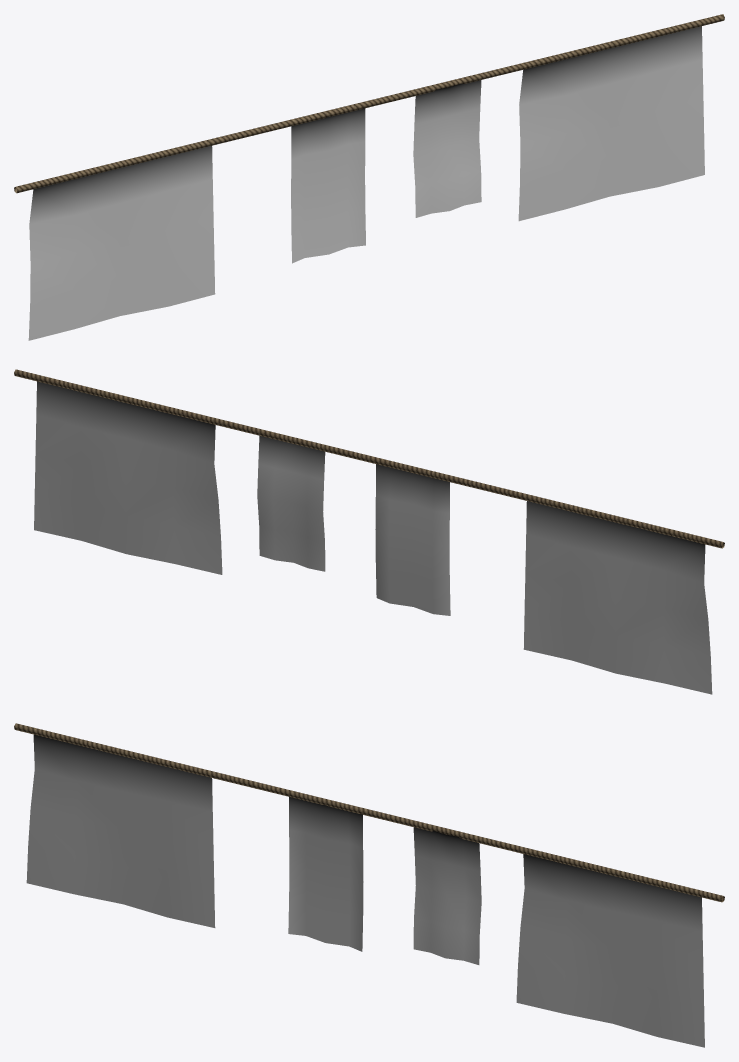
File: ClothesLine_D_mdl.fbx
3 views of the same model, one above another, from view 1: azimuth 30°, elevation 25°; view 2: azimuth 150°, elevation 25°; view 3: azimuth 330°, elevation 25° (orthographic).
Parts seen in each view (by area): view 1: ClothesLine_D_LOD0; view 2: ClothesLine_D_LOD0; view 3: ClothesLine_D_LOD0.
Part boxes in pixels (x1,y1,x2,y2): ClothesLine_D_LOD0: (14,14,724,340); ClothesLine_D_LOD0: (14,369,724,694); ClothesLine_D_LOD0: (14,723,724,1047).
Size of the model in its own units: 512 by 108 by 6.42.
